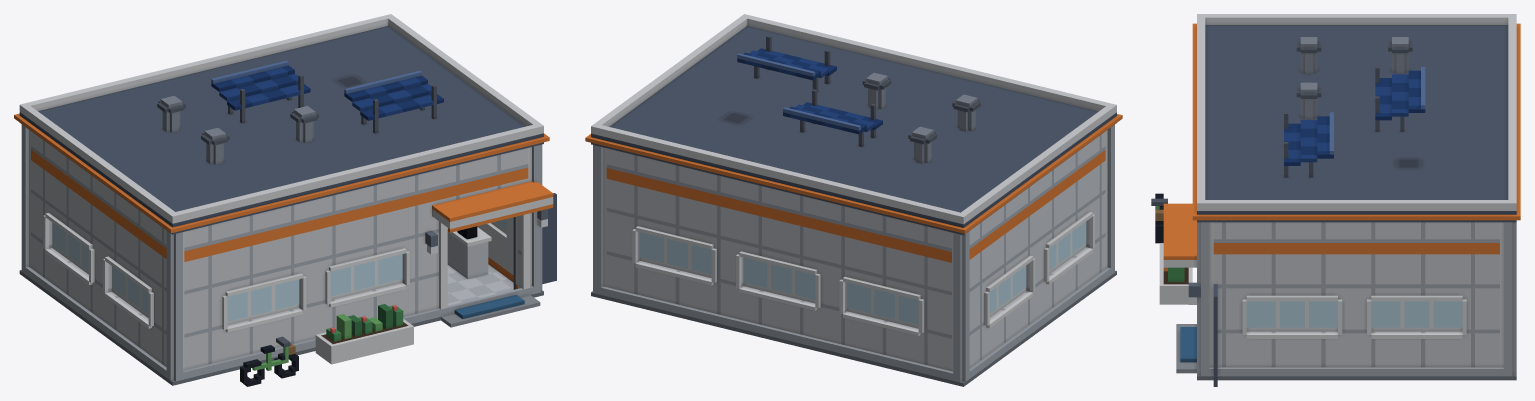
The model's file is control_e3_l1.glb.
3 renders of one model, left to right at view 1: azimuth 30°, elevation 25°; view 2: azimuth 150°, elevation 25°; view 3: azimuth 270°, elevation 25°, orthographic. The views are drawn at different scales.
Parts seen in each view (by area): view 1: CutRoof, CutPZ, Base, CutNX, CutNZ, CutPX; view 2: CutRoof, CutNZ, Base, CutNX, CutPZ; view 3: CutRoof, CutPX, Base, CutPZ, CutNZ.
Part boxes in pixels (bbox=[...]): CutRoof: bbox=[14, 14, 549, 234]; CutPZ: bbox=[166, 144, 556, 348]; Base: bbox=[19, 225, 556, 386]; CutNX: bbox=[31, 131, 166, 341]; CutNZ: bbox=[21, 124, 30, 242]; CutPX: bbox=[480, 217, 513, 249]; CutRoof: bbox=[585, 14, 1122, 235]; CutNZ: bbox=[593, 145, 969, 349]; Base: bbox=[591, 240, 1116, 386]; CutNX: bbox=[969, 131, 1105, 342]; CutPZ: bbox=[1105, 125, 1114, 242]; CutRoof: bbox=[1192, 14, 1520, 222]; CutPX: bbox=[1213, 222, 1499, 340]; Base: bbox=[1151, 193, 1516, 386]; CutPZ: bbox=[1163, 203, 1217, 352]; CutNZ: bbox=[1500, 222, 1516, 342].
Size of the model in its own units: 11.5 by 5.4 by 8.9.
